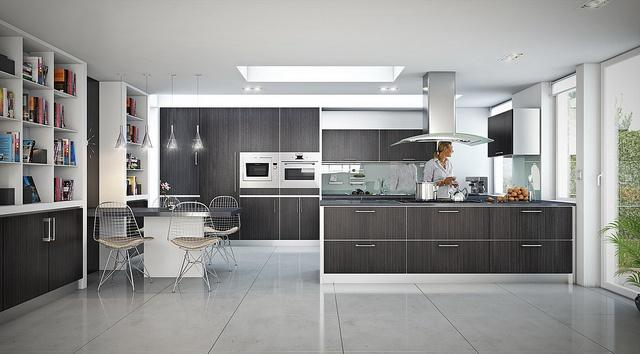Lemari: (0, 205, 83, 313)
Rak: (0, 17, 88, 212), (123, 79, 148, 199)
